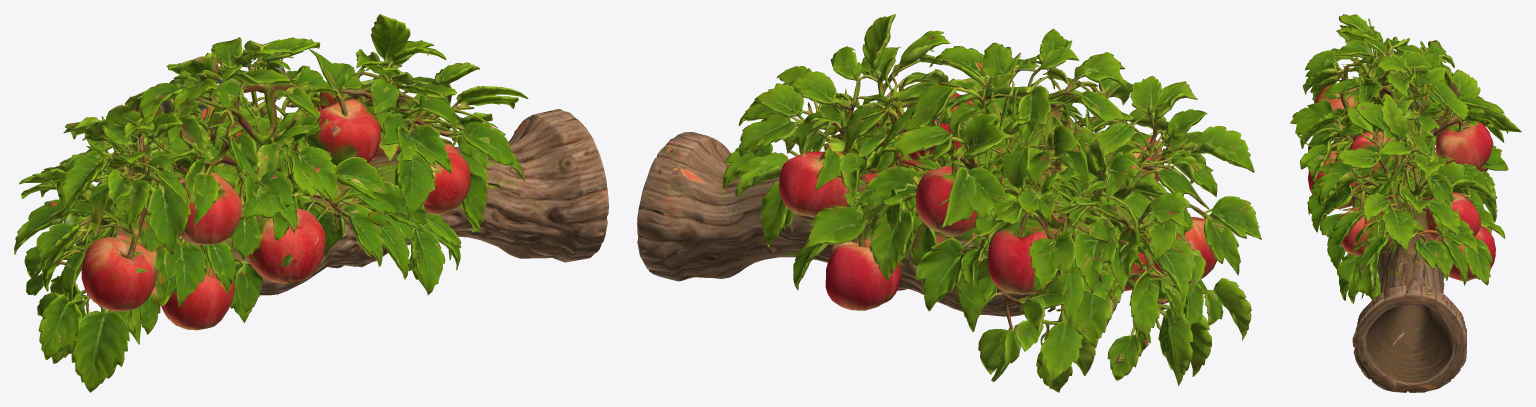
Rendered from branch_apple.glb.
3 views of the same model, side by side, from view 1: azimuth 30°, elevation 25°; view 2: azimuth 150°, elevation 25°; view 3: azimuth 270°, elevation 25° (orthographic). The views are drawn at different scales.
Bounding box in the file's own units: 1.9 × 0.9871 × 0.8942.
Materials: 1 (1 with a texture image).
